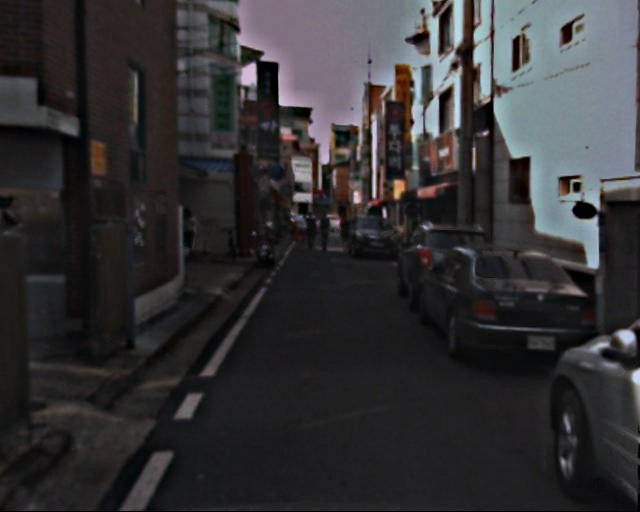person: (176, 207, 198, 260), (303, 212, 320, 253), (317, 211, 333, 251), (338, 217, 353, 253)
